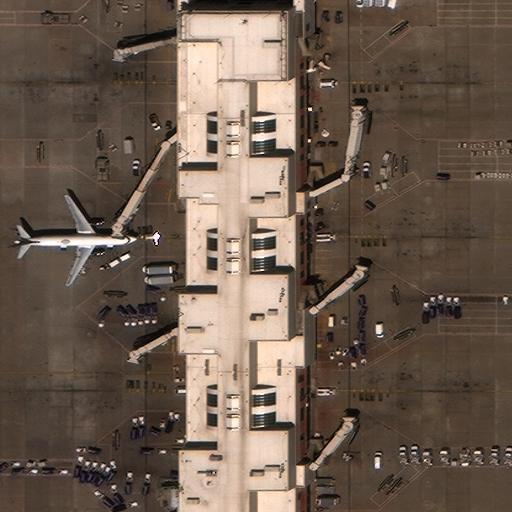Medium Civil Transport: (11, 194, 138, 285)
